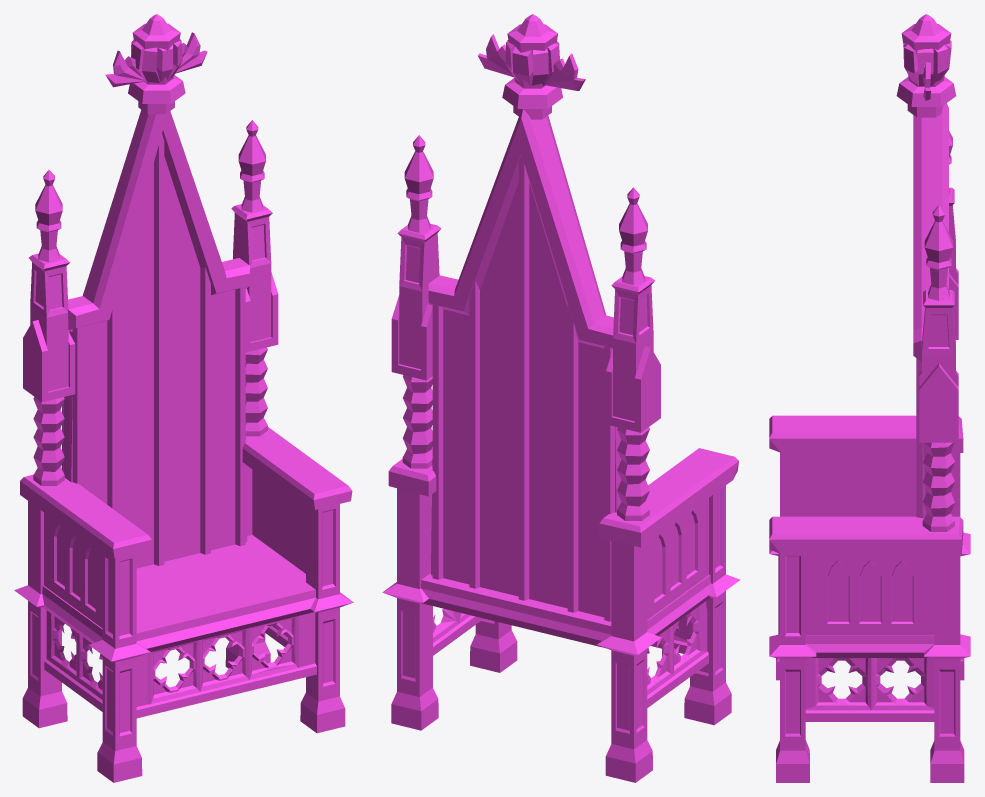
File: SM_Throne_A_Fantasy.fbx
The picture shows the model from 3 angles, left to right: view 1: azimuth 30°, elevation 25°; view 2: azimuth 150°, elevation 25°; view 3: azimuth 270°, elevation 25°; orthographic projection. The views are drawn at different scales.
Parts seen in each view (by area): view 1: SM_Throne_A_Fantasy; view 2: SM_Throne_A_Fantasy; view 3: SM_Throne_A_Fantasy.
Boxes of the visible parts, bbox=[...] form: SM_Throne_A_Fantasy: bbox=[14, 14, 353, 782]; SM_Throne_A_Fantasy: bbox=[382, 14, 740, 782]; SM_Throne_A_Fantasy: bbox=[769, 14, 970, 782].
Bounding box in the file's own units: 0.8352 × 2.26 × 0.5817.
